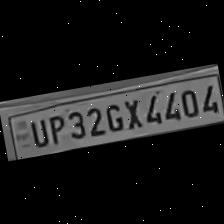0: (174, 84, 199, 119)
2: (81, 102, 105, 138)
3: (61, 106, 86, 142)
4: (138, 90, 162, 127), (196, 79, 220, 115), (156, 88, 181, 122)
G: (100, 98, 124, 134)
P: (43, 110, 66, 146)
U: (25, 114, 48, 148)
X: (119, 94, 144, 131)
